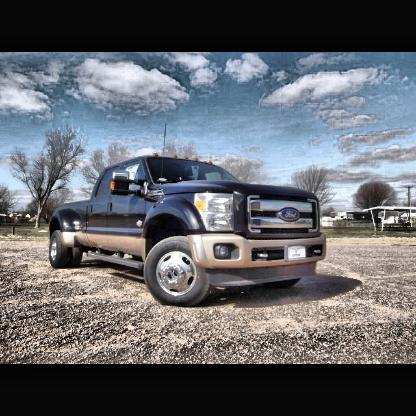Ford F-450 Super Duty Crew Cab 2012: (49, 155, 328, 311)
